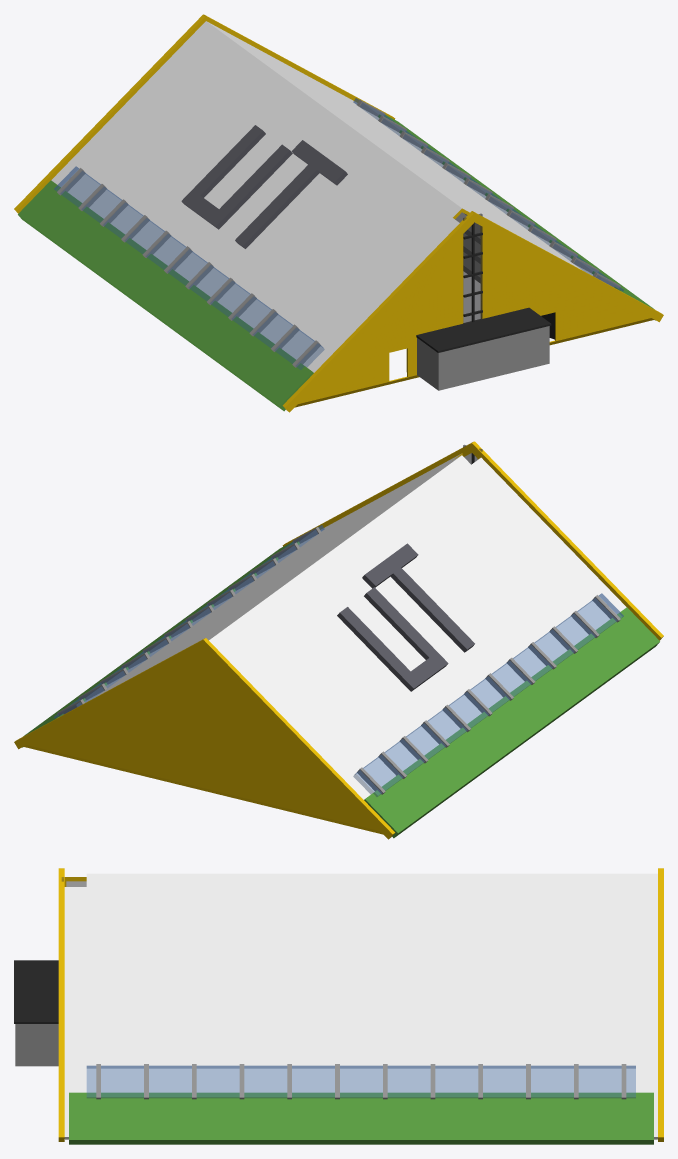
Rendered from Piramide.fbx.
3 views of the same model, one above another, from view 1: azimuth 30°, elevation 25°; view 2: azimuth 150°, elevation 25°; view 3: azimuth 270°, elevation 25° (orthographic). The views are drawn at different scales.
Visible parts, largest first — view 1: Edificio_Interior; view 2: Edificio_Interior; view 3: Edificio_Interior.
Part boxes in pixels (left/top/right/bottom): Edificio_Interior: left=14, top=14, right=663, bottom=412; Edificio_Interior: left=14, top=441, right=663, bottom=839; Edificio_Interior: left=14, top=868, right=663, bottom=1144.
Bounding box in the file's own units: 4108 × 1614 × 5445.
